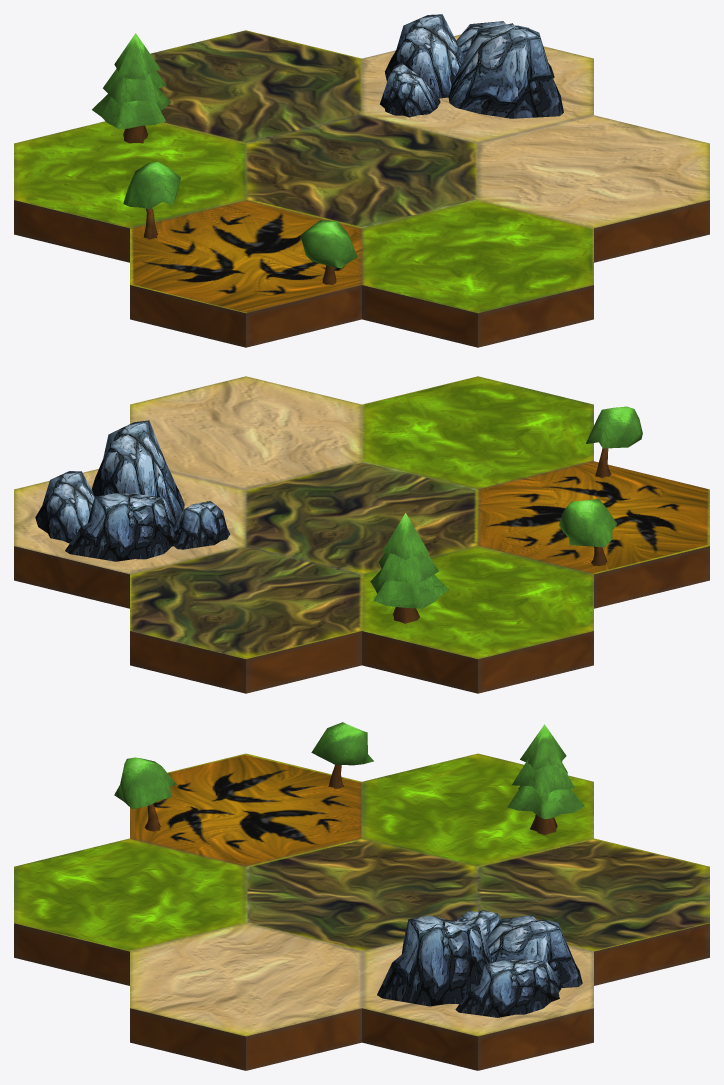
File: Tile_Forest4.fbx
3 renders of one model, top to bottom at view 1: azimuth 30°, elevation 25°; view 2: azimuth 150°, elevation 25°; view 3: azimuth 270°, elevation 25°, orthographic.
Visible parts, largest first — view 1: tile1, mountain7, tree014, mountain2, tree017, tree016, mountain9, mountain8; view 2: tile1, mountain2, mountain7, tree014, mountain8, tree017, tree016, mountain9; view 3: tile1, mountain7, mountain8, tree014, mountain2, tree016, tree017, mountain9.
Part boxes in pixels (x1=…): tile1: x1=14, y1=30, x2=709, y2=347; mountain7: x1=448, y1=23, x2=563, y2=118; tree014: x1=92, y1=33, x2=170, y2=143; mountain2: x1=385, y1=14, x2=464, y2=98; tree017: x1=123, y1=161, x2=180, y2=239; tree016: x1=300, y1=220, x2=357, y2=284; mountain9: x1=380, y1=63, x2=440, y2=117; mountain8: x1=456, y1=21, x2=554, y2=78; tile1: x1=14, y1=376, x2=709, y2=693; mountain2: x1=65, y1=493, x2=176, y2=561; mountain7: x1=91, y1=420, x2=184, y2=520; tree014: x1=370, y1=513, x2=448, y2=623; mountain8: x1=35, y1=471, x2=94, y2=543; tree017: x1=559, y1=499, x2=617, y2=565; tree016: x1=586, y1=406, x2=642, y2=478; mountain9: x1=174, y1=501, x2=230, y2=549; tile1: x1=14, y1=753, x2=709, y2=1070; mountain7: x1=377, y1=915, x2=492, y2=1006; mountain8: x1=455, y1=959, x2=561, y2=1017; tree014: x1=507, y1=724, x2=584, y2=835; mountain2: x1=485, y1=915, x2=582, y2=987; tree016: x1=114, y1=757, x2=176, y2=831; tree017: x1=311, y1=722, x2=373, y2=788; mountain9: x1=457, y1=910, x2=500, y2=939.
Size of the model in its own units: 128 by 29.37 by 133.
